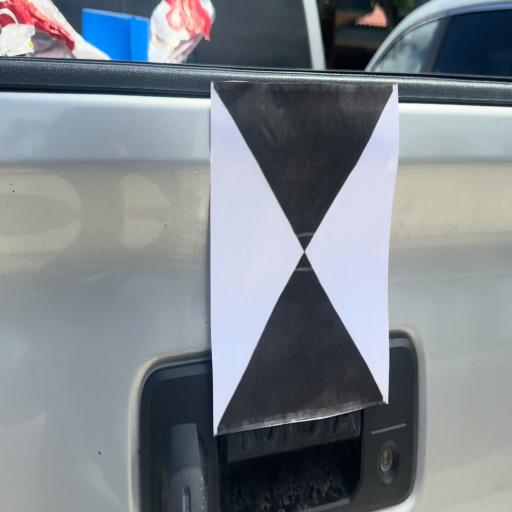target: (214, 82, 389, 427)
